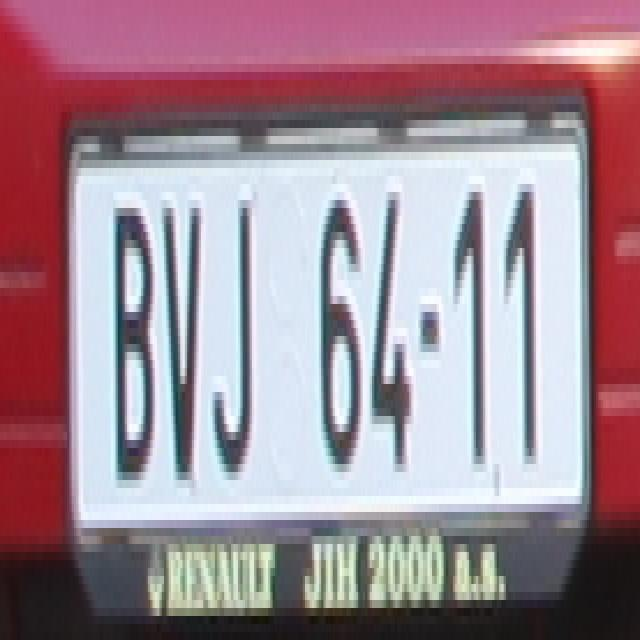1: (499, 168, 541, 480), (448, 184, 488, 464)
4: (368, 168, 412, 480)
6: (316, 184, 361, 464)
B: (109, 192, 154, 480)
V: (162, 184, 203, 480)
